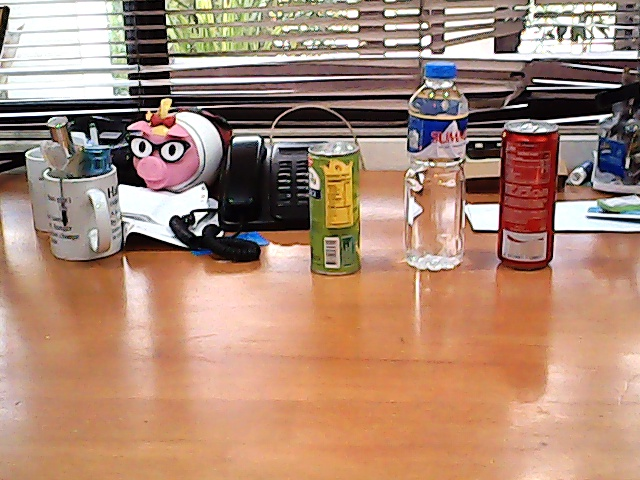Cola: (492, 117, 566, 270)
Pine Juice: (301, 137, 371, 276)
Summit Water: (398, 54, 479, 274)
